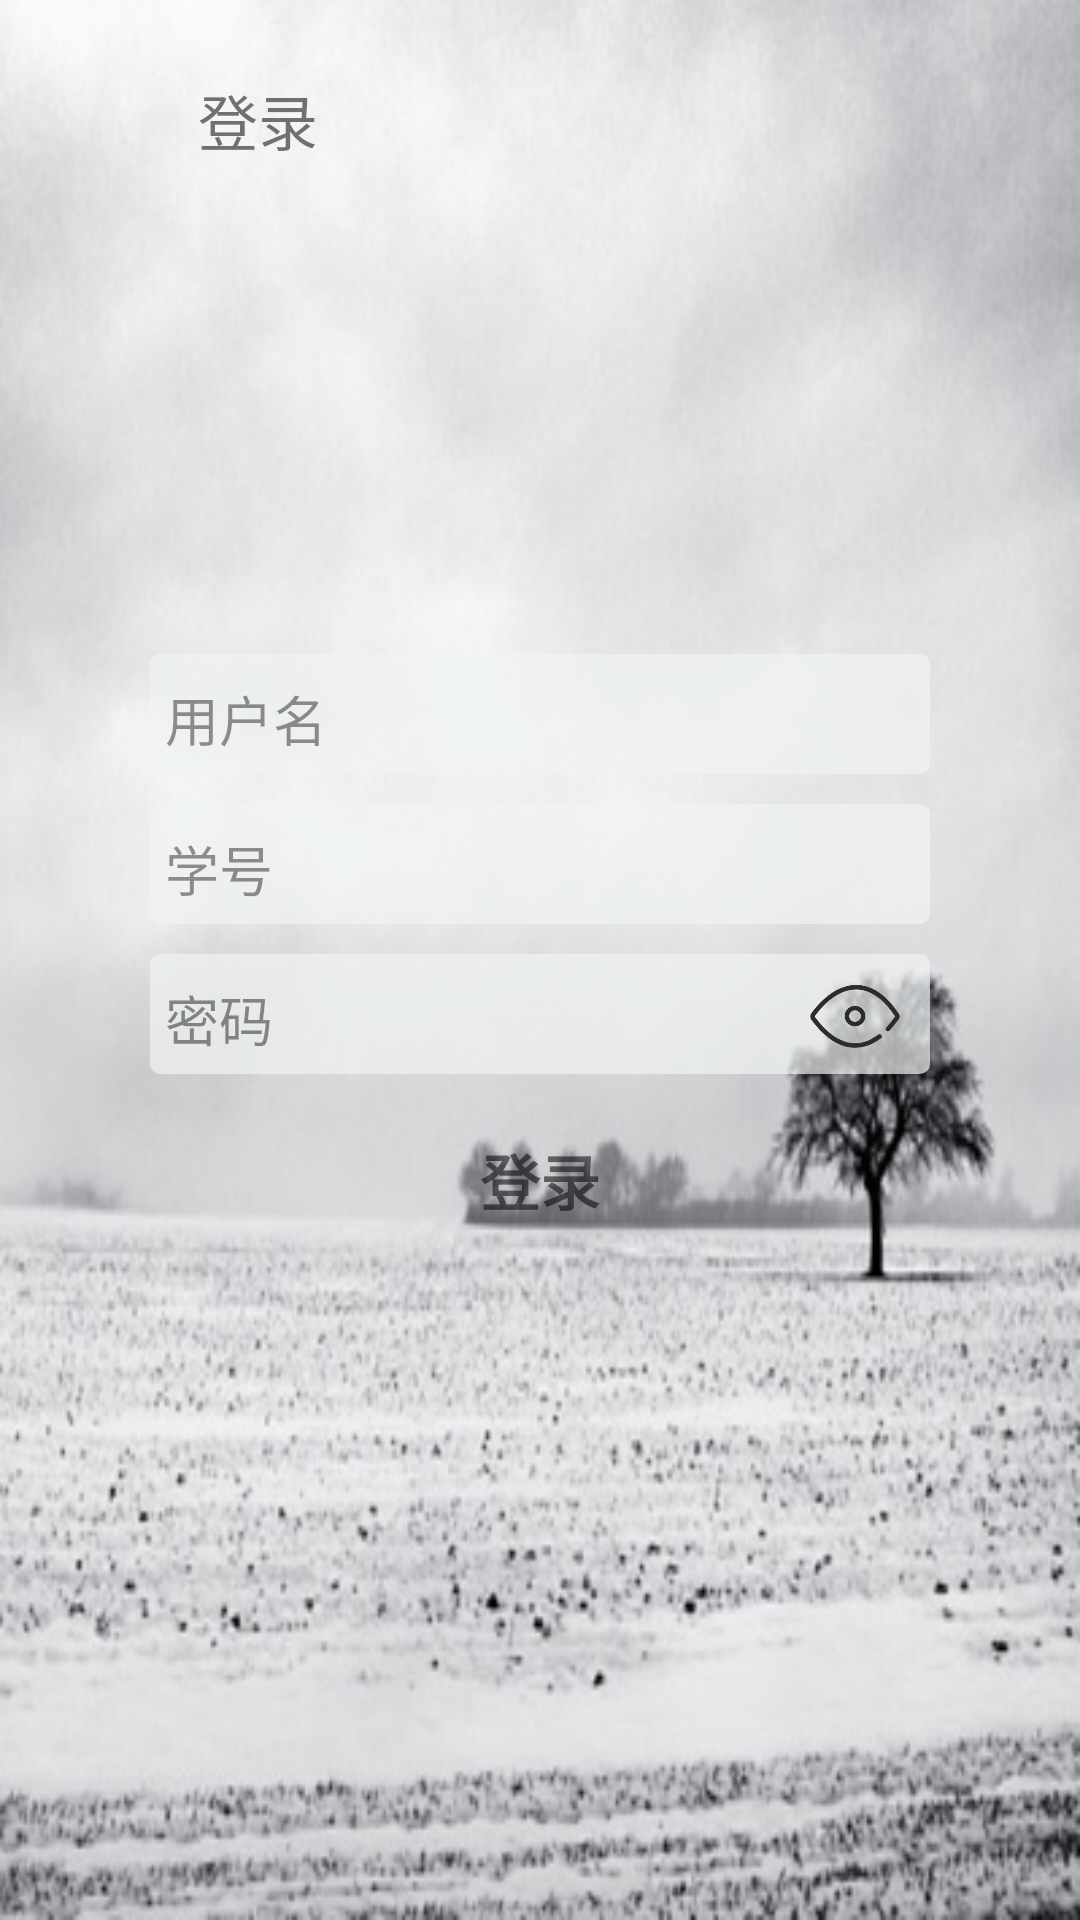

Point at icon controls on the screen. Image size 1080×1920, points as (x=x, y=y).
browse: (x=855, y=1015)
